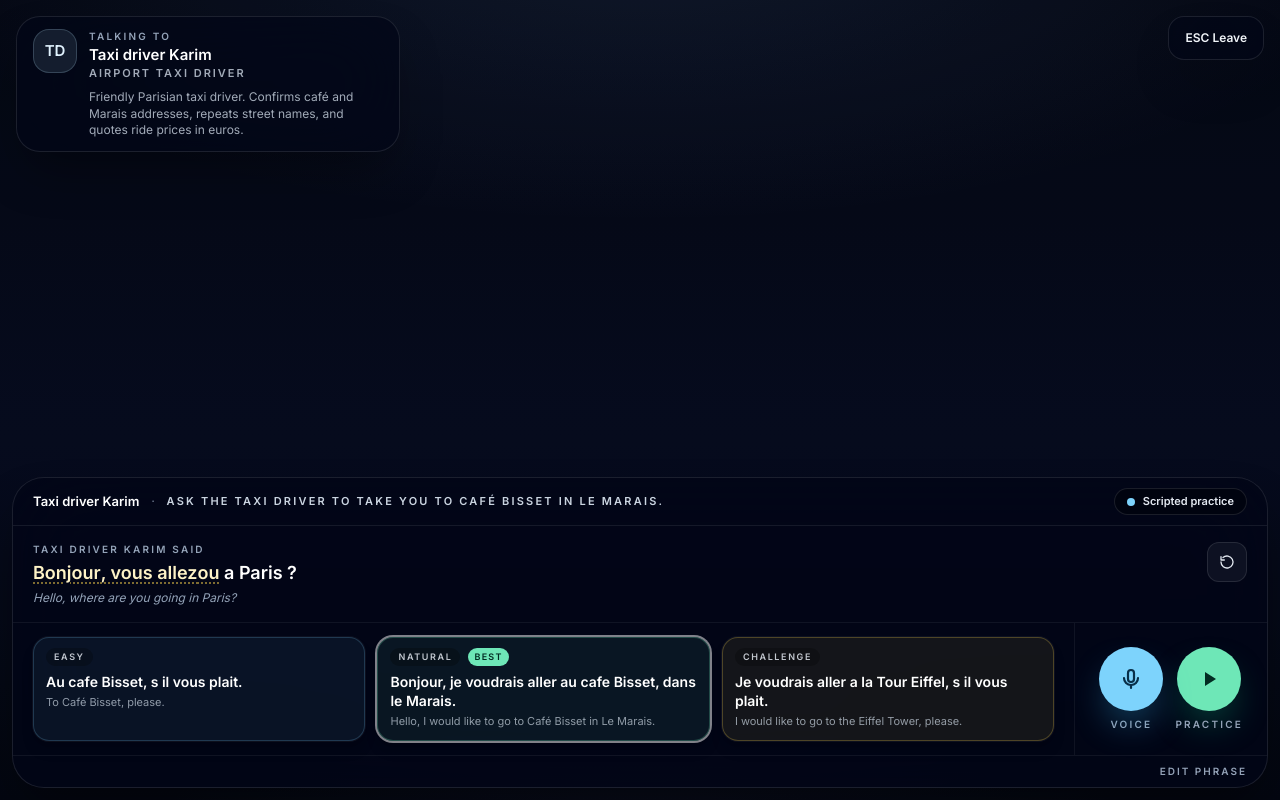
it: TransitConversationPanel › shows the café travel action when the user answers by voice
Click the button named "Answer by voice" at (1131, 678), box [1099, 646, 1163, 710]
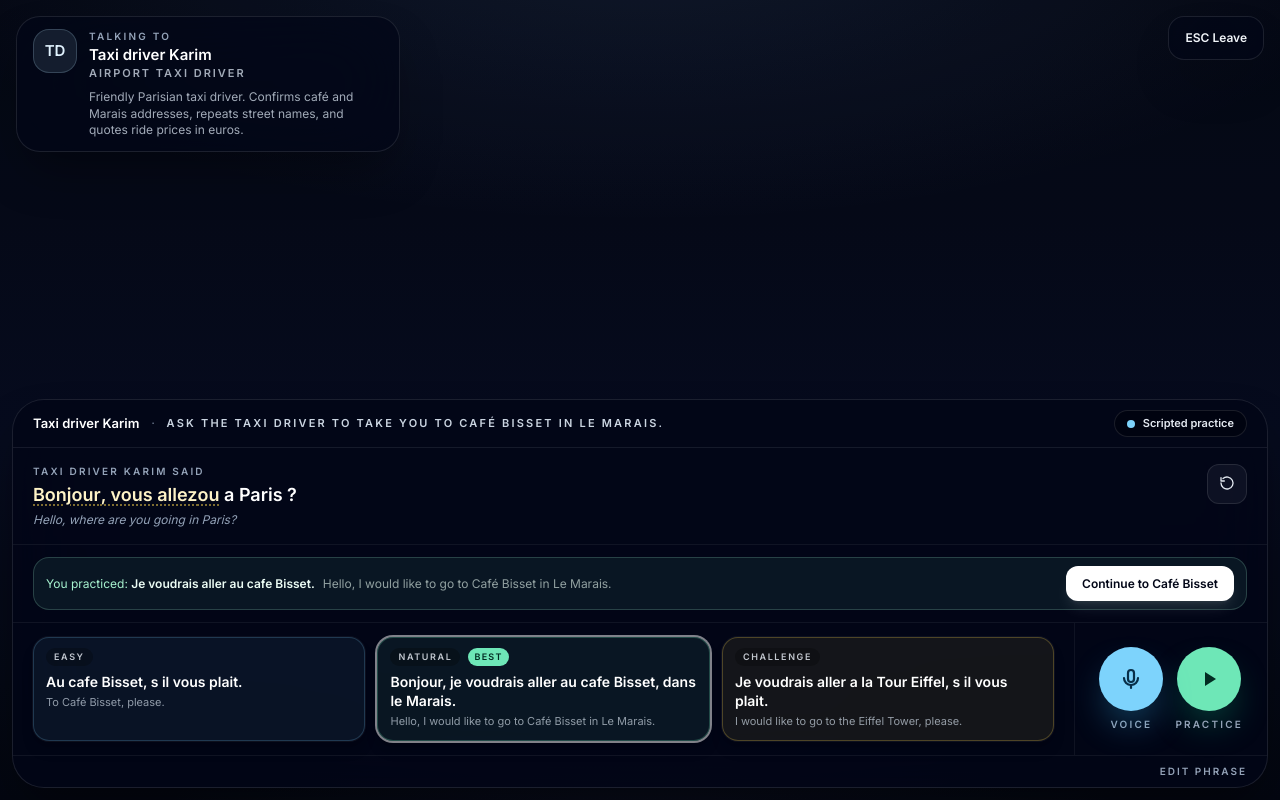
Result: the button "Continue to Café Bisset" is shown at [1066, 566, 1234, 601]
